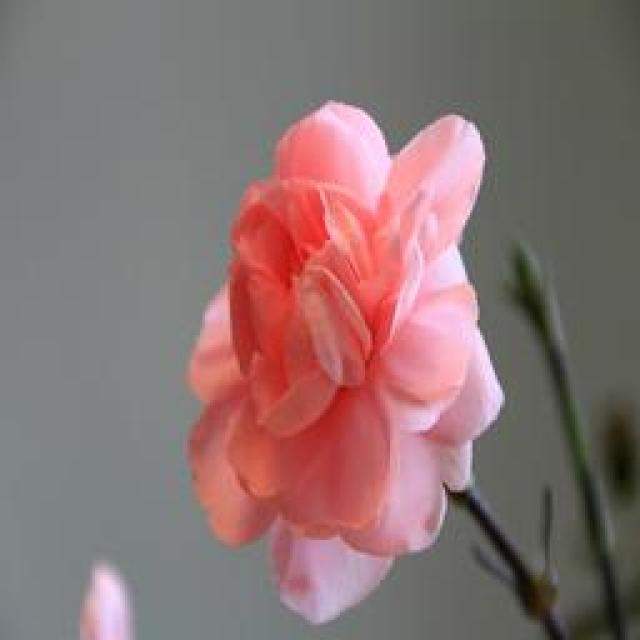carnation: (179, 83, 508, 619)
